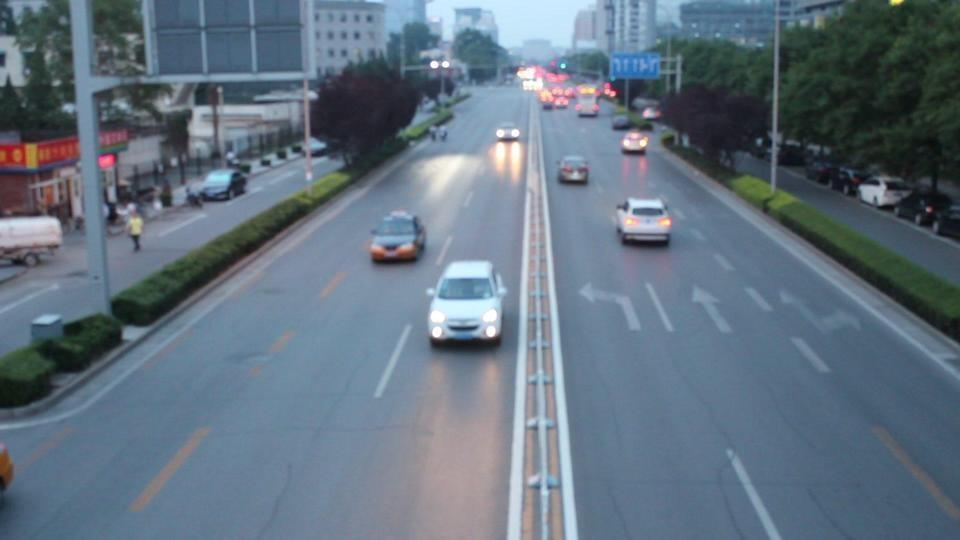car: (424, 260, 508, 348), (614, 196, 674, 246), (368, 212, 426, 263), (893, 187, 959, 227), (857, 176, 912, 210), (193, 169, 249, 202), (810, 157, 860, 190), (804, 148, 844, 184), (831, 166, 873, 196), (556, 155, 590, 184), (934, 204, 960, 239), (620, 130, 651, 155), (0, 442, 14, 496), (574, 93, 600, 118), (495, 123, 522, 142), (634, 99, 660, 118), (306, 136, 328, 157), (548, 91, 570, 110), (612, 114, 630, 131)
